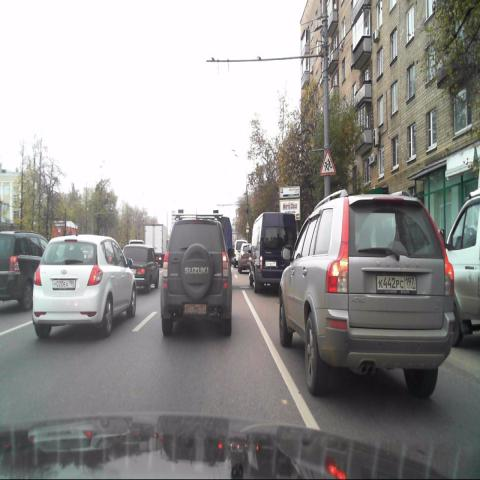1_23: (318, 148, 336, 176)
